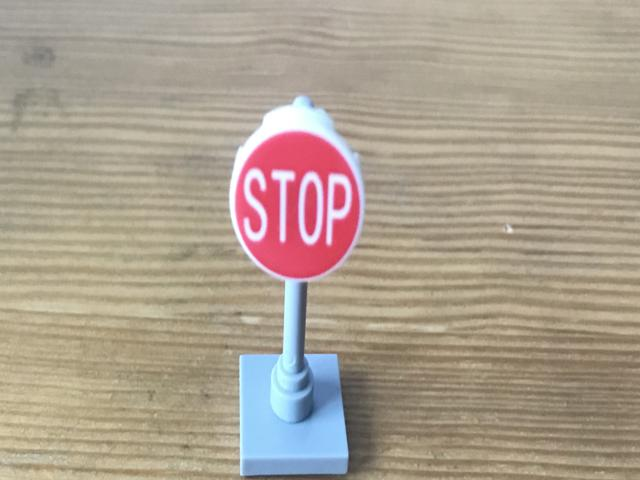stop: (230, 127, 366, 283)
